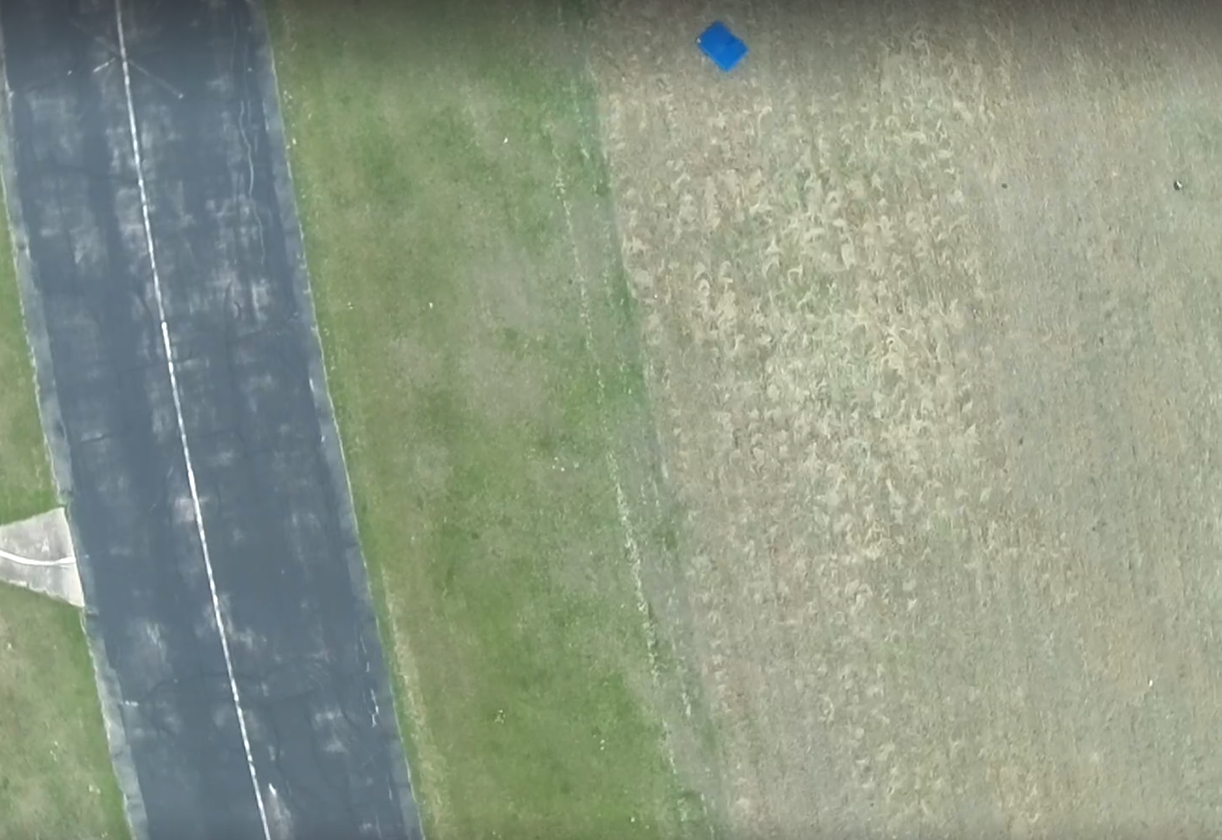TOI: (694, 20, 750, 73)
